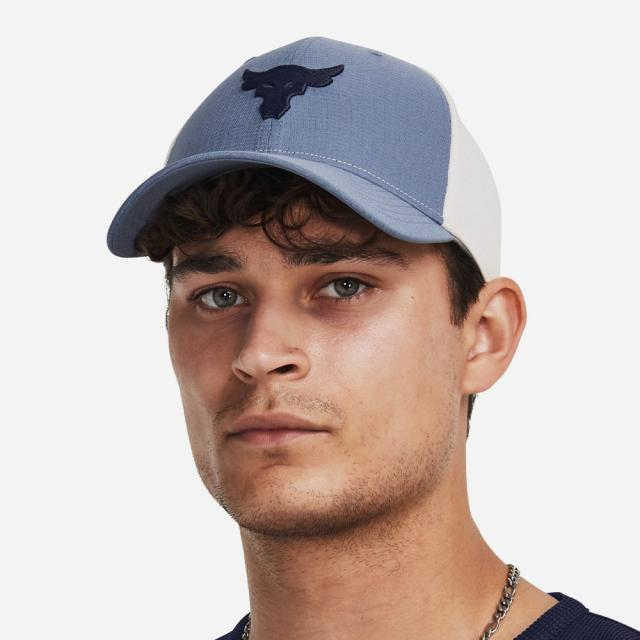Nonhelmet: (103, 33, 534, 544)
